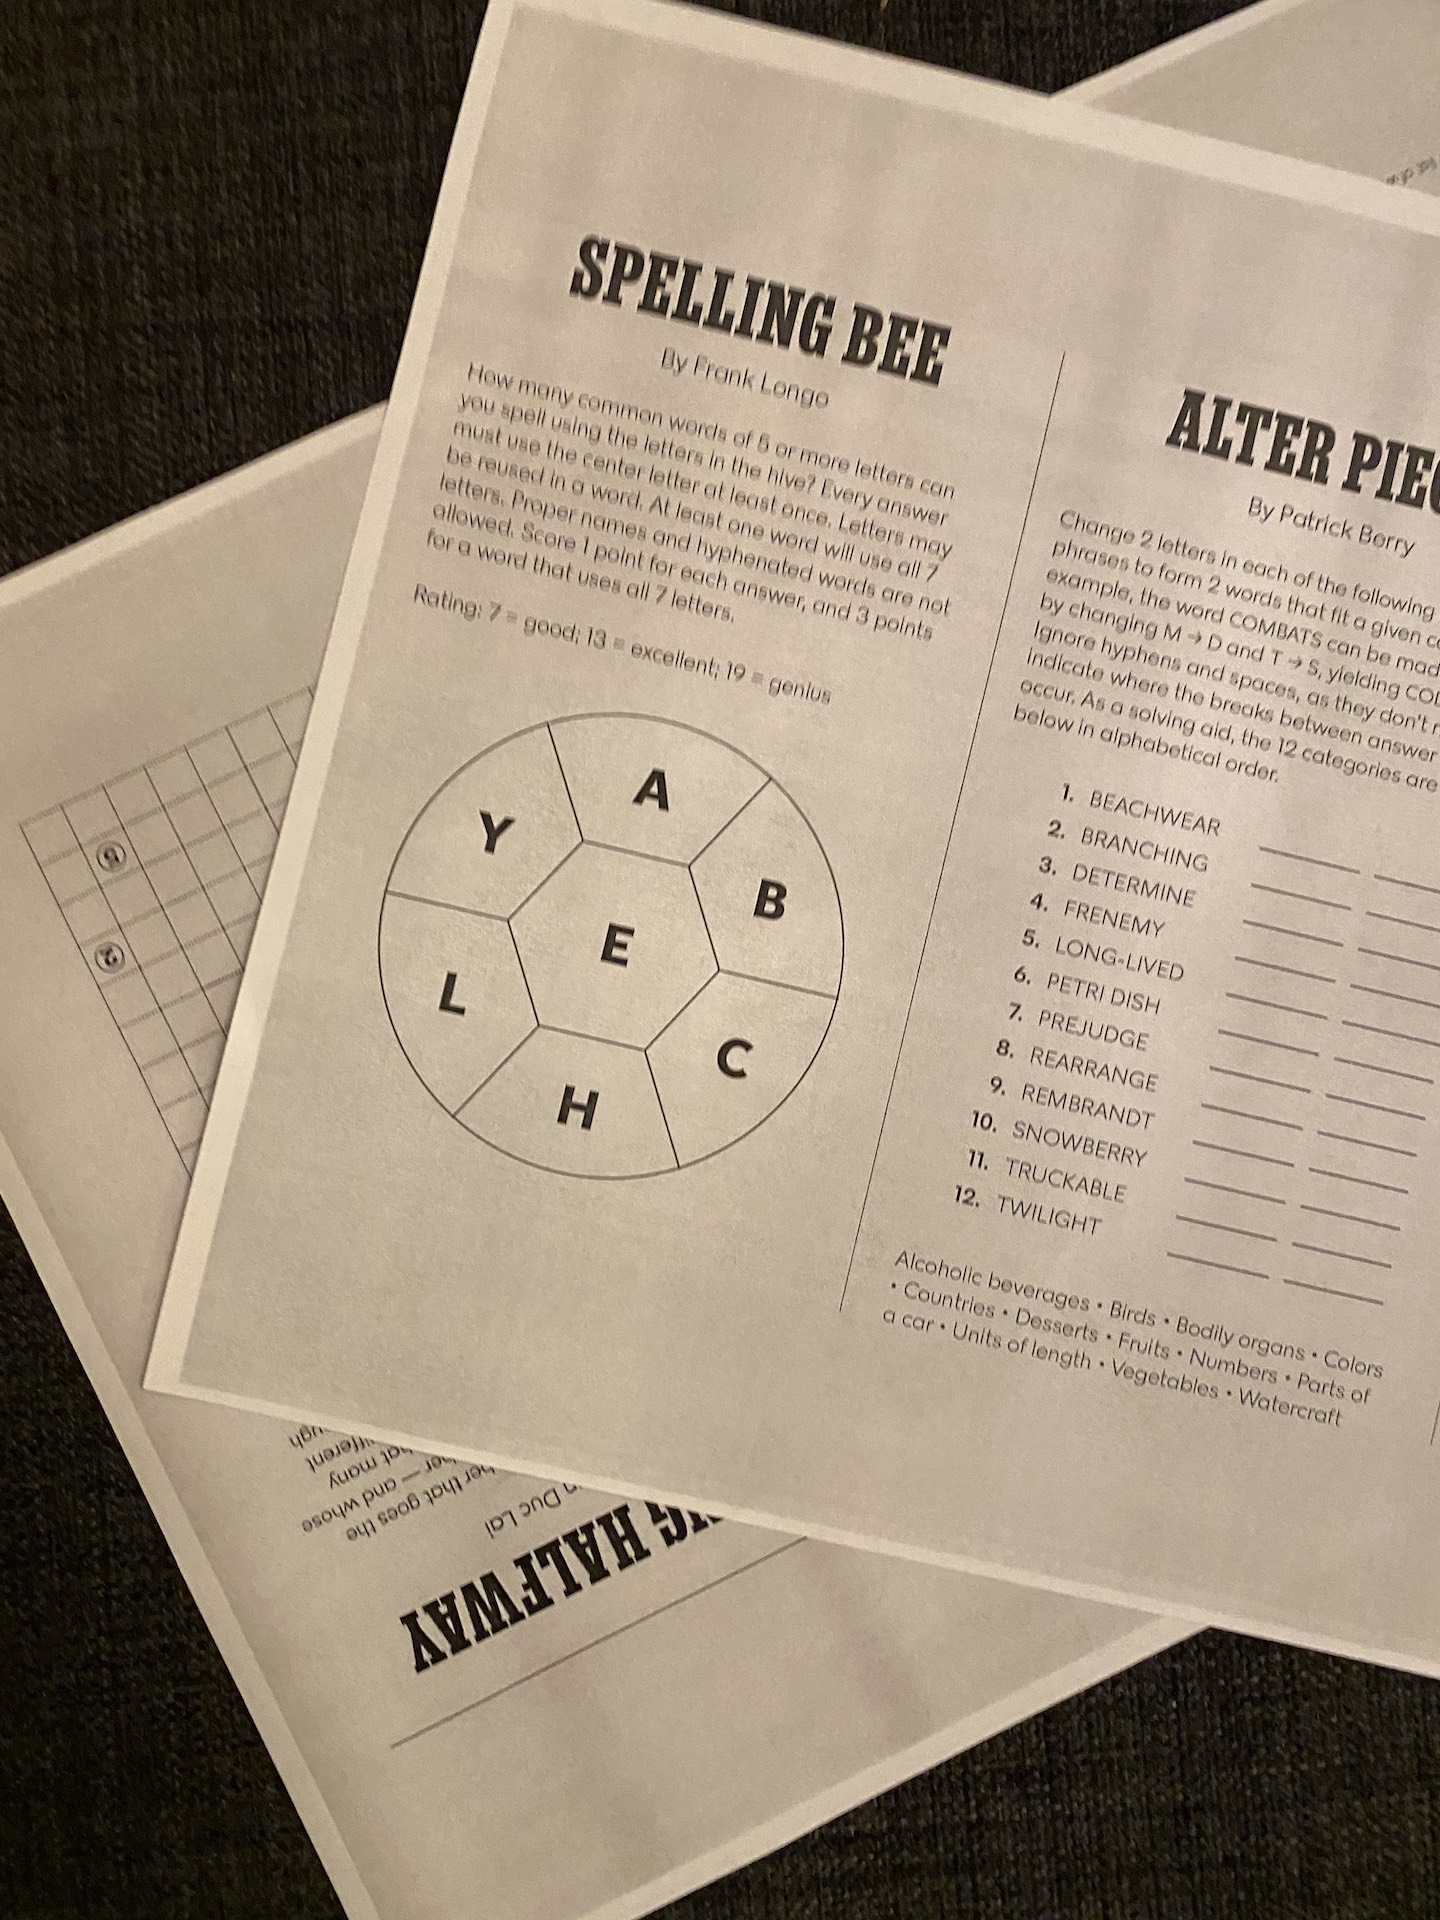PrintBoard: (355, 701, 859, 1188)
